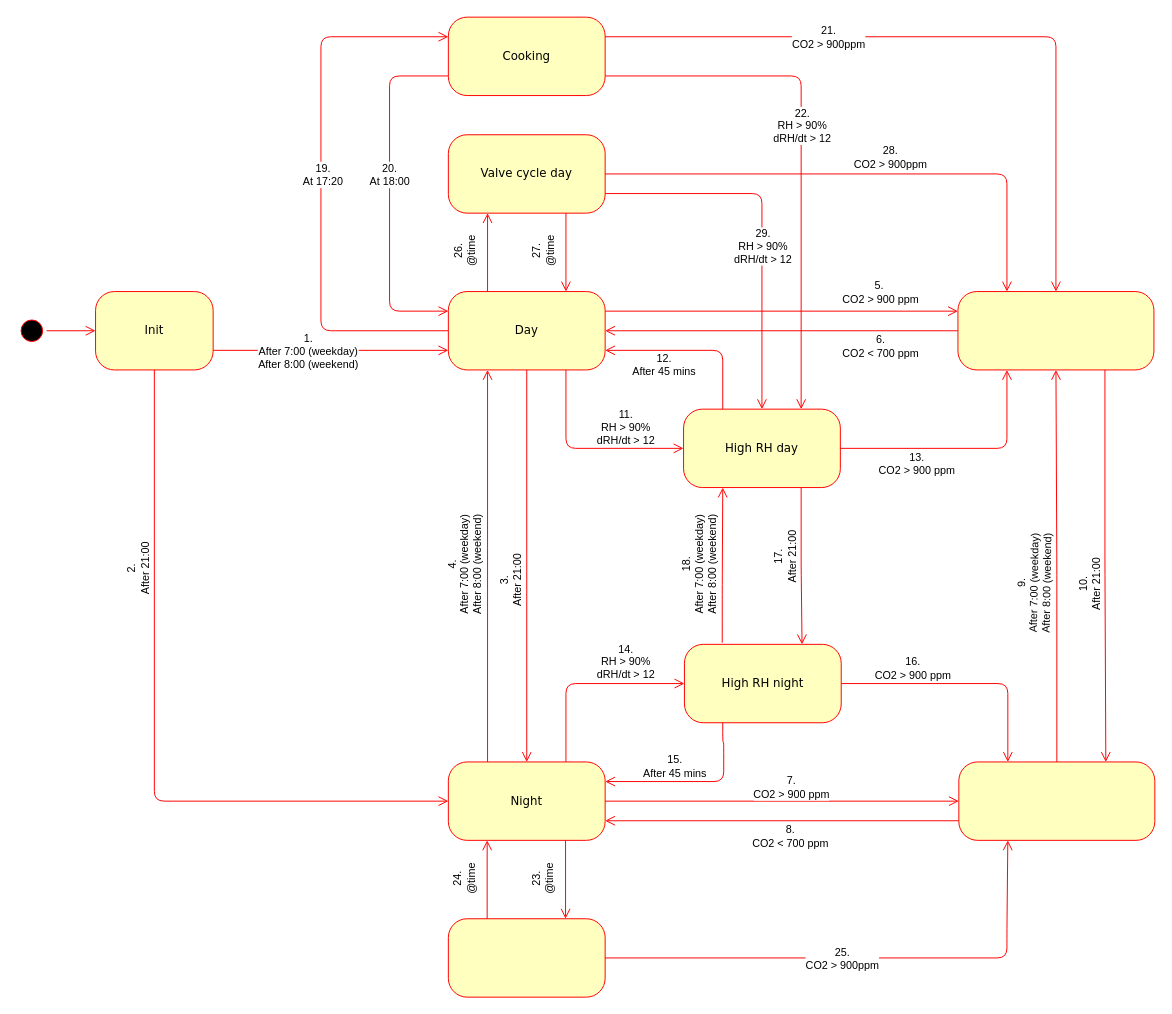
Image size: 1172x1014. Some labels were removed from this diagram. The shapes that lost their labels are listed below. From the top down, each one's box as (x1, y1, x2, y2) in pixels, then its label:
(16, 315, 47, 345): Start
(957, 291, 1154, 370): High CO2 day
(958, 761, 1155, 840): High CO2 night
(447, 918, 605, 997): Valve cycle night
